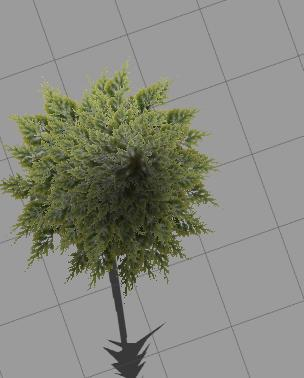tree_gazebo: (1, 66, 214, 292)
